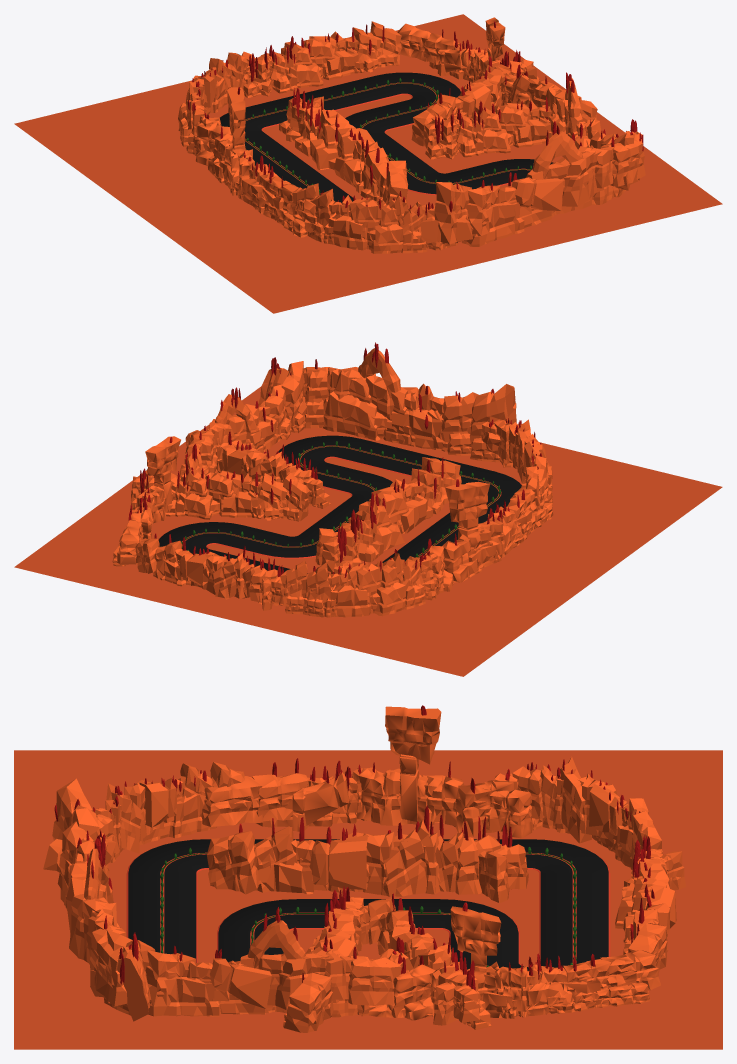
File: test derby2.FBX
The picture shows the model from 3 angles, top to bottom: view 1: azimuth 30°, elevation 25°; view 2: azimuth 150°, elevation 25°; view 3: azimuth 270°, elevation 25°; orthographic projection. The views are drawn at different scales.
Visible parts, largest first — view 1: Plane028, MuurRechts001, object 33, MuurBoven001, MuurOnder001, MuurLinks001, MuurBoven002, MuurOnder, MuurRechts, MuurLinks, MuurBoven003, Plane010 (+14 smaller); view 2: Plane028, MuurRechts001, MuurLinks, object 33, MuurOnder001, MuurBoven003, MuurRechts, MuurBoven001, MuurOnder, MuurBoven002, MuurLinks001, Plane023 (+10 smaller); view 3: Plane028, MuurOnder001, object 33, MuurRechts, MuurOnder, MuurRechts001, MuurLinks, MuurLinks001, MuurBoven003, MuurBoven001, MuurBoven002, Plane008 (+13 smaller).
Boxes of the visible parts, <box> form: Plane028: <box>14,14,722,313</box>; MuurRechts001: <box>420,119,645,248</box>; object 33: <box>279,88,408,208</box>; MuurBoven001: <box>241,21,401,97</box>; MuurOnder001: <box>193,87,317,237</box>; MuurLinks001: <box>291,183,458,253</box>; MuurBoven002: <box>423,96,597,159</box>; MuurOnder: <box>397,17,530,105</box>; MuurRechts: <box>508,64,638,190</box>; MuurLinks: <box>178,52,248,155</box>; MuurBoven003: <box>411,50,539,146</box>; Plane010: <box>331,76,400,105</box>; Plane028: <box>14,386,722,676</box>; MuurRechts001: <box>258,342,516,462</box>; MuurLinks: <box>280,549,444,617</box>; object 33: <box>315,457,461,573</box>; MuurOnder001: <box>423,477,553,594</box>; MuurBoven003: <box>130,463,309,521</box>; MuurRechts: <box>184,361,311,472</box>; MuurBoven001: <box>135,533,285,610</box>; MuurOnder: <box>112,436,209,566</box>; MuurBoven002: <box>185,425,330,508</box>; MuurLinks001: <box>481,418,553,509</box>; Plane023: <box>336,439,405,468</box>; Plane028: <box>14,750,722,1049</box>; MuurOnder001: <box>201,705,535,838</box>; object 33: <box>207,805,528,903</box>; MuurRechts: <box>90,907,413,1017</box>; MuurOnder: <box>367,902,660,1020</box>; MuurRechts001: <box>43,778,151,1021</box>; MuurLinks: <box>494,756,663,869</box>; MuurLinks001: <box>93,762,244,873</box>; MuurBoven003: <box>368,893,491,1029</box>; MuurBoven001: <box>615,835,686,972</box>; MuurBoven002: <box>283,886,370,1032</box>; Plane008: <box>539,872,610,903</box>.
Bounding box in the file's own units: 1575 × 354 × 1575.
